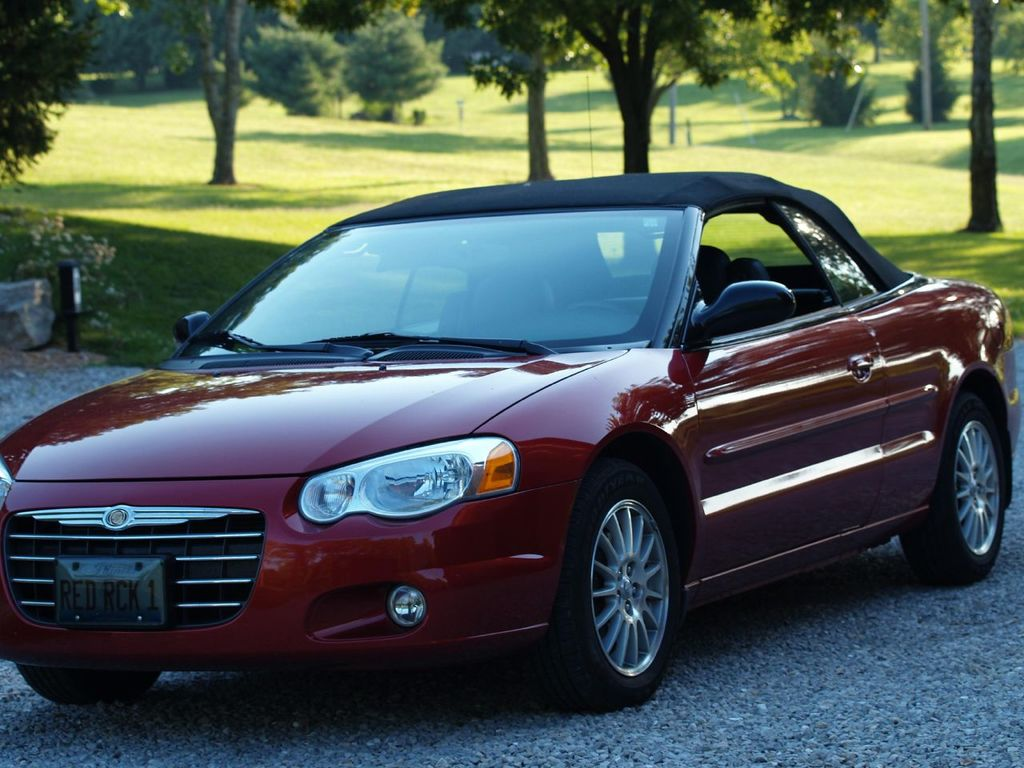Tree: (245, 0, 897, 175)
